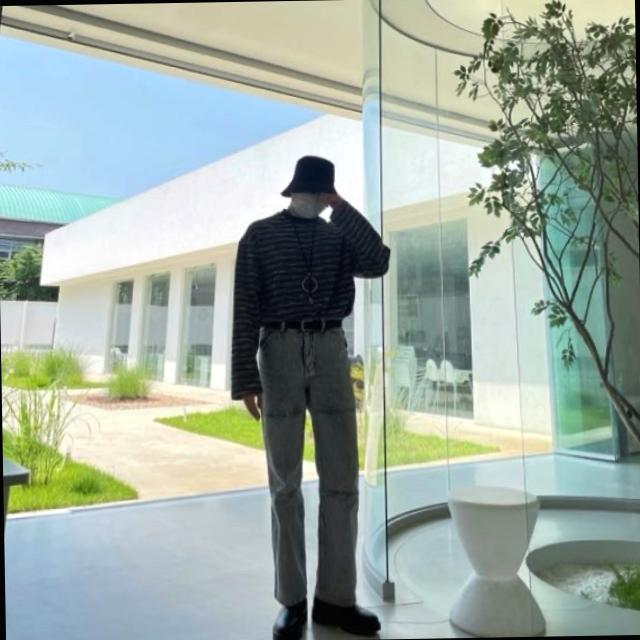denimpants: (256, 318, 362, 607)
longsleeve: (223, 200, 390, 398)
